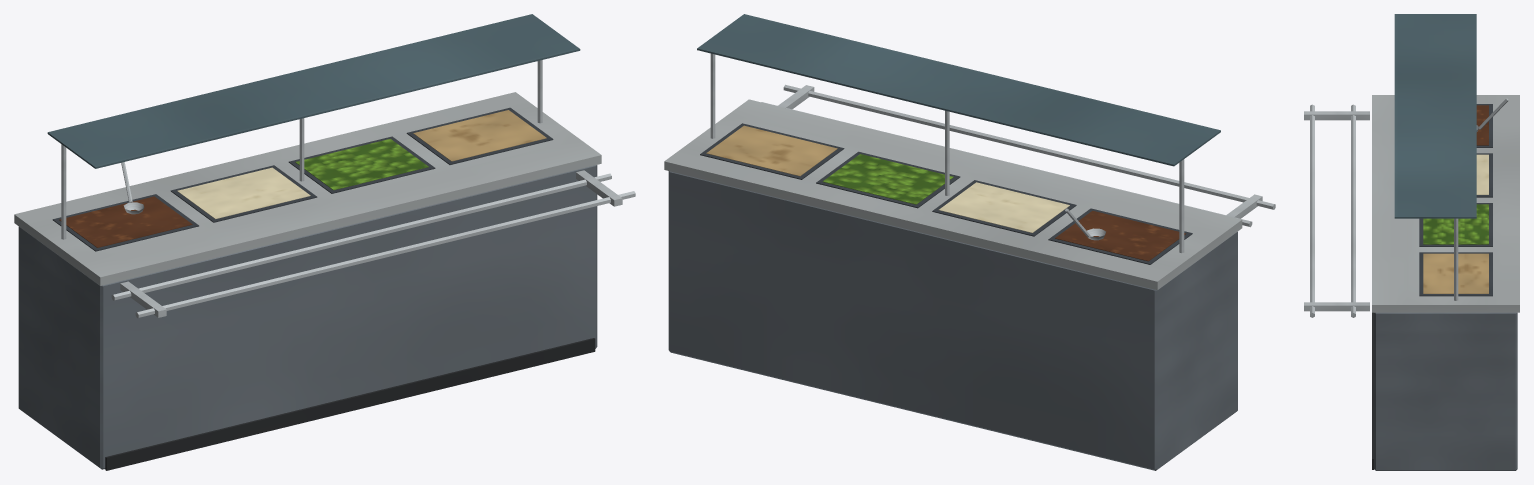
The model's file is serving_counter.fbx.
3 renders of one model, left to right at view 1: azimuth 30°, elevation 25°; view 2: azimuth 150°, elevation 25°; view 3: azimuth 270°, elevation 25°, orthographic. The views are drawn at different scales.
Visible parts, largest first — view 1: serving_counter; view 2: serving_counter; view 3: serving_counter.
Part boxes in pixels (x1,y1,x2,y2): serving_counter: (14, 14, 635, 470); serving_counter: (664, 14, 1275, 470); serving_counter: (1304, 14, 1519, 470).
Bounding box in the file's own units: 2.42 × 1.35 × 1.05.
1 material, 1 textured.
